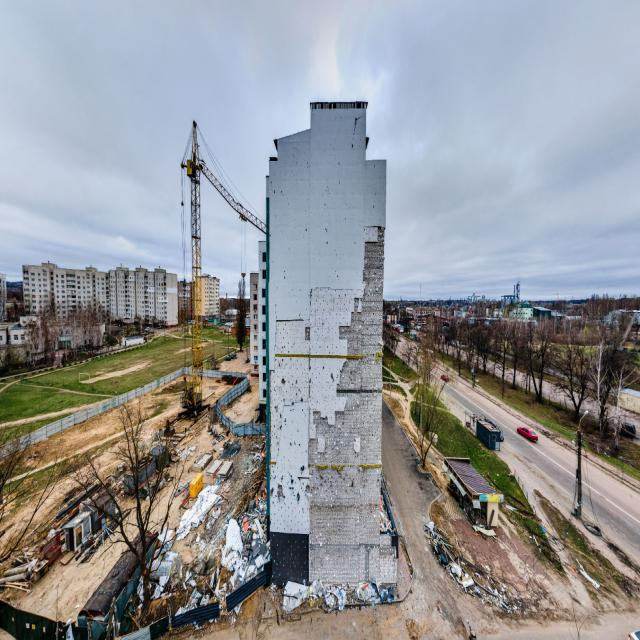building: (264, 100, 398, 590)
roof: (444, 456, 496, 499)
